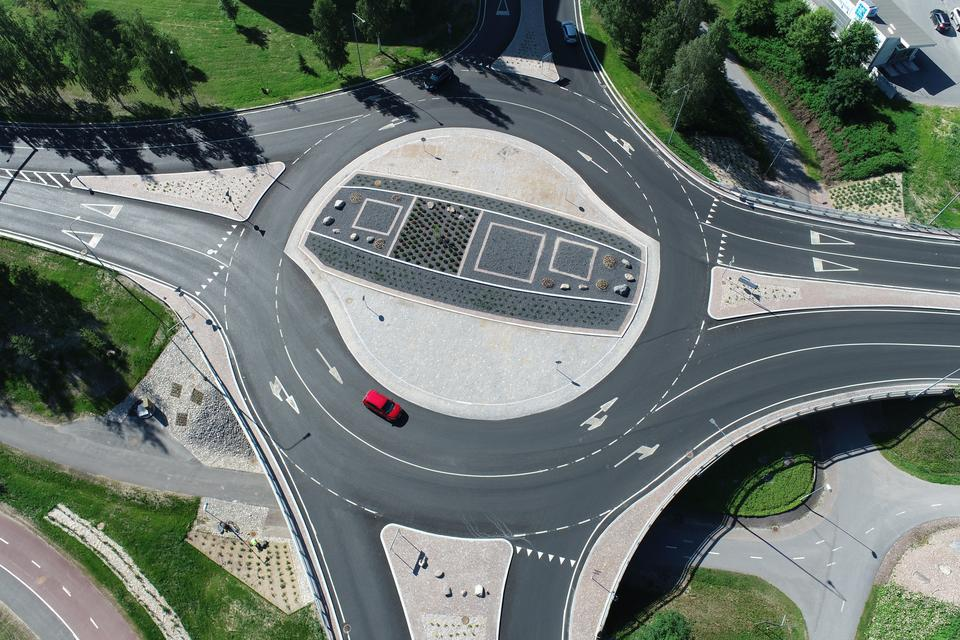roundabout: (187, 22, 745, 630)
